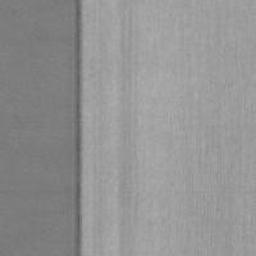Welding line: (73, 0, 83, 256)
